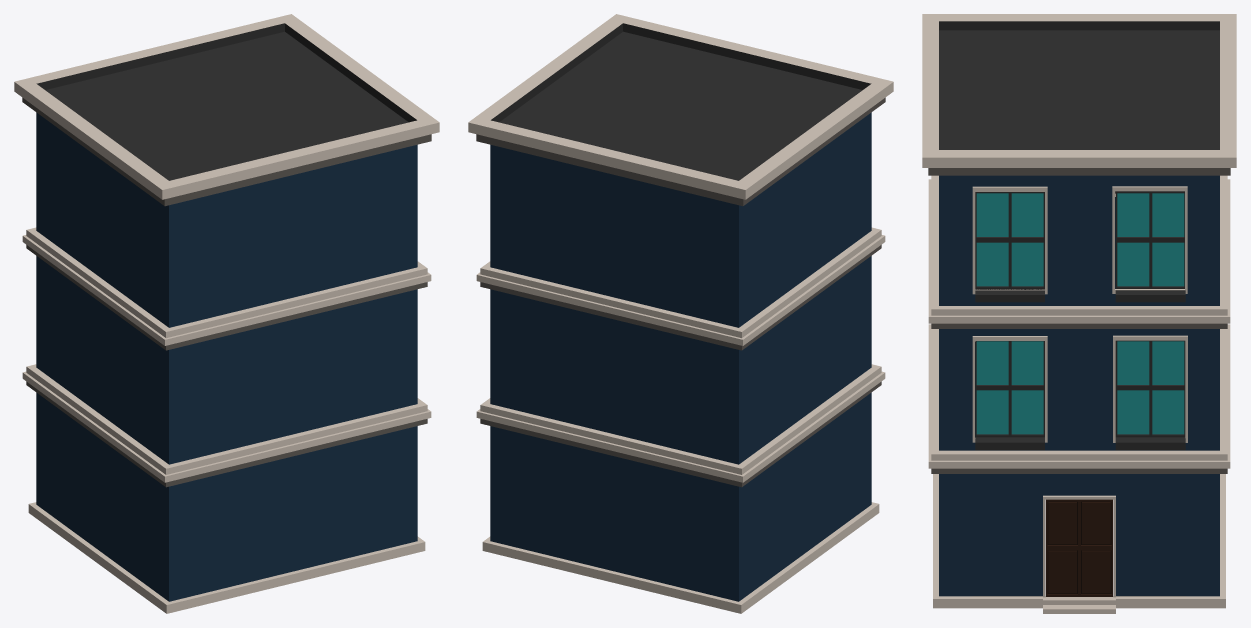
File: PropBuilding_2.fbx
3 renders of one model, left to right at view 1: azimuth 30°, elevation 25°; view 2: azimuth 150°, elevation 25°; view 3: azimuth 270°, elevation 25°, orthographic. The views are drawn at different scales.
Parts seen in each view (by area): view 1: PropBuilding2_Body; view 2: PropBuilding2_Body; view 3: PropBuilding2_Body, PropBuilding2_Window_2.001, PropBuilding2_Window.001, PropBuilding2_Window, PropBuilding2_Window_2, PropBuilding2_Door.
Boxes of the visible parts, x1,y1,x2,y2 form: PropBuilding2_Body: [14, 14, 439, 613]; PropBuilding2_Body: [468, 14, 893, 613]; PropBuilding2_Body: [922, 14, 1236, 613]; PropBuilding2_Window_2.001: [1115, 340, 1185, 450]; PropBuilding2_Window.001: [1115, 191, 1185, 302]; PropBuilding2_Window: [975, 192, 1044, 302]; PropBuilding2_Window_2: [975, 341, 1044, 450]; PropBuilding2_Door: [1046, 499, 1112, 596].
Size of the model in its own units: 1509 by 2220 by 1387.
Materials: 4 (4 with a texture image).
